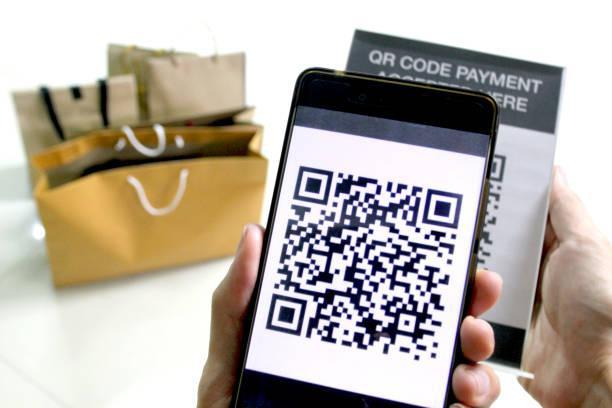Finder pattern: (265, 293, 310, 339), (421, 186, 465, 231), (293, 163, 334, 208), (489, 153, 507, 184)
